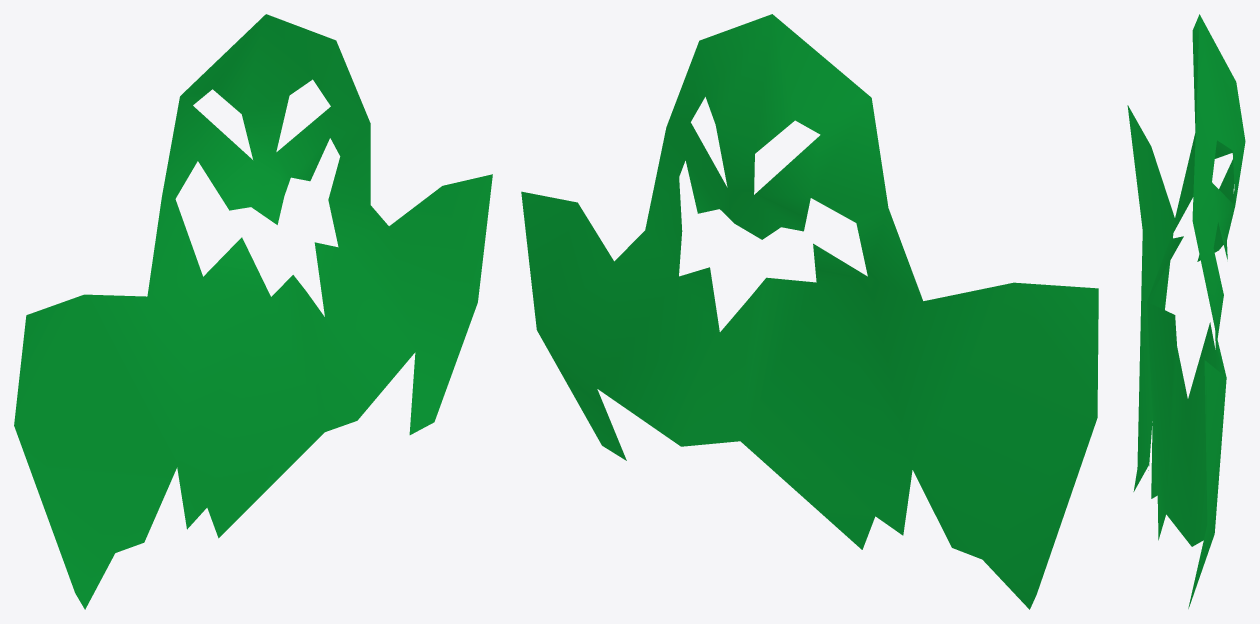
File: HWN20_GreenGhost.glb
3 renders of one model, left to right at view 1: azimuth 30°, elevation 25°; view 2: azimuth 150°, elevation 25°; view 3: azimuth 270°, elevation 25°, orthographic. The views are drawn at different scales.
Parts seen in each view (by area): view 1: HWN20_GreenGhost; view 2: HWN20_GreenGhost; view 3: HWN20_GreenGhost.
Part boxes in pixels (left/top/right/bottom): HWN20_GreenGhost: left=14, top=14, right=492, bottom=609; HWN20_GreenGhost: left=521, top=14, right=1098, bottom=609; HWN20_GreenGhost: left=1127, top=14, right=1245, bottom=608.
Size of the model in its own units: 0.8424 by 0.8311 by 0.1494.
Materials: 1 (1 with a texture image).
